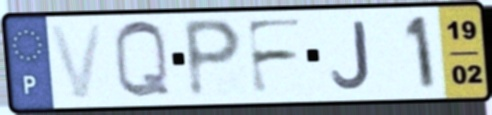1: (402, 13, 439, 93)
F: (242, 16, 307, 98)
J: (329, 18, 374, 91)
P: (181, 16, 246, 101)
Q: (110, 17, 174, 102)
V: (45, 21, 108, 102)
